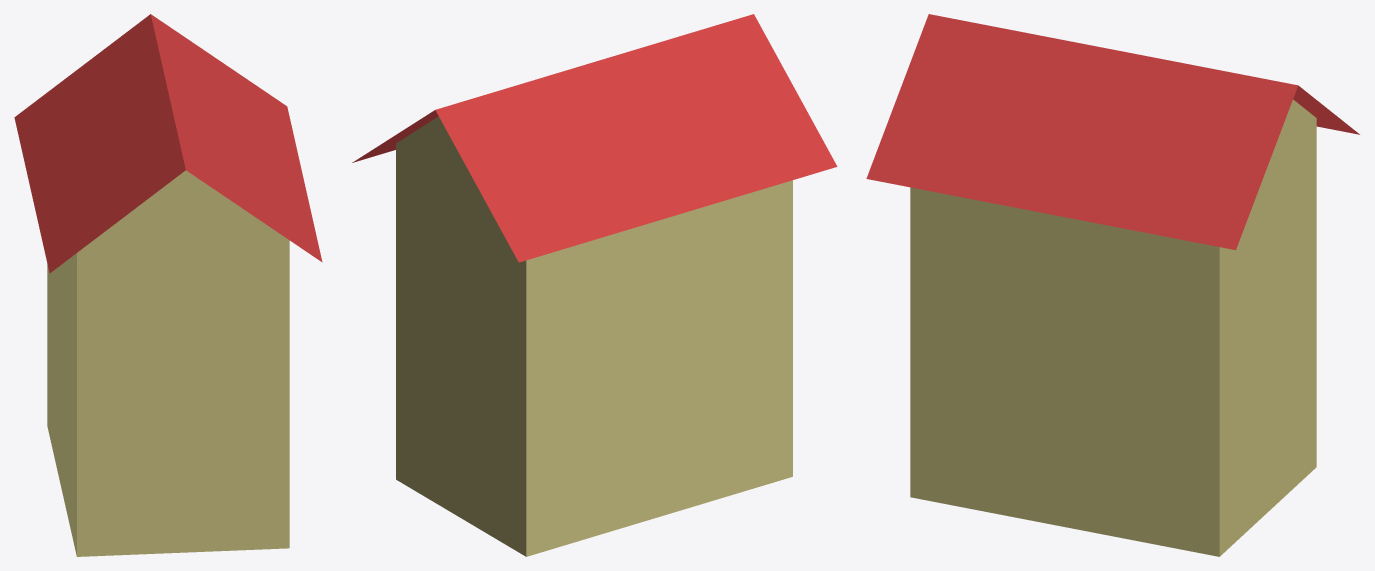
3 renders of one model, left to right at view 1: azimuth 30°, elevation 25°; view 2: azimuth 150°, elevation 25°; view 3: azimuth 270°, elevation 25°, orthographic. The views are drawn at different scales.
Visible parts, largest first — view 1: group_5, group_3, group_4; view 2: group_5, group_3, group_4; view 3: group_5, group_3, group_4.
Part boxes in pixels (x1,y1,x2,y2): group_5: [47, 170, 289, 556]; group_3: [47, 14, 322, 273]; group_4: [14, 14, 286, 272]; group_5: [396, 116, 792, 556]; group_3: [352, 14, 837, 243]; group_4: [355, 102, 835, 262]; group_5: [910, 99, 1316, 556]; group_3: [866, 14, 1359, 250]; group_4: [929, 14, 1297, 249].
Size of the model in its own units: 13.35 by 14.93 by 14.42.
